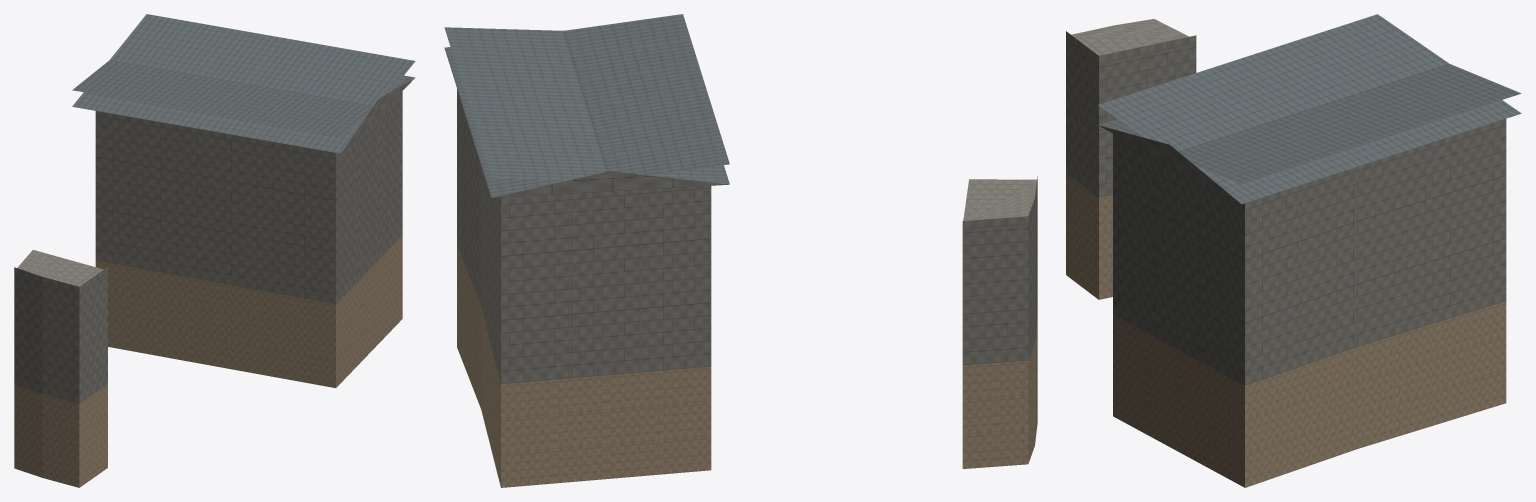
Rendered from bld_c38_-13_532.gltf.
3 renders of one model, left to right at view 1: azimuth 30°, elevation 25°; view 2: azimuth 150°, elevation 25°; view 3: azimuth 270°, elevation 25°, orthographic. The views are drawn at different scales.
Parts seen in each view (by area): view 1: bld_c38_-13_532; view 2: bld_c38_-13_532; view 3: bld_c38_-13_532.
Boxes of the visible parts, x1,y1,x2,y2 form: bld_c38_-13_532: (14,14,415,487); bld_c38_-13_532: (444,14,1037,487); bld_c38_-13_532: (1066,14,1521,487).
Size of the model in its own units: 27.72 by 16.6 by 20.62.
Materials: 5 (5 with a texture image).
